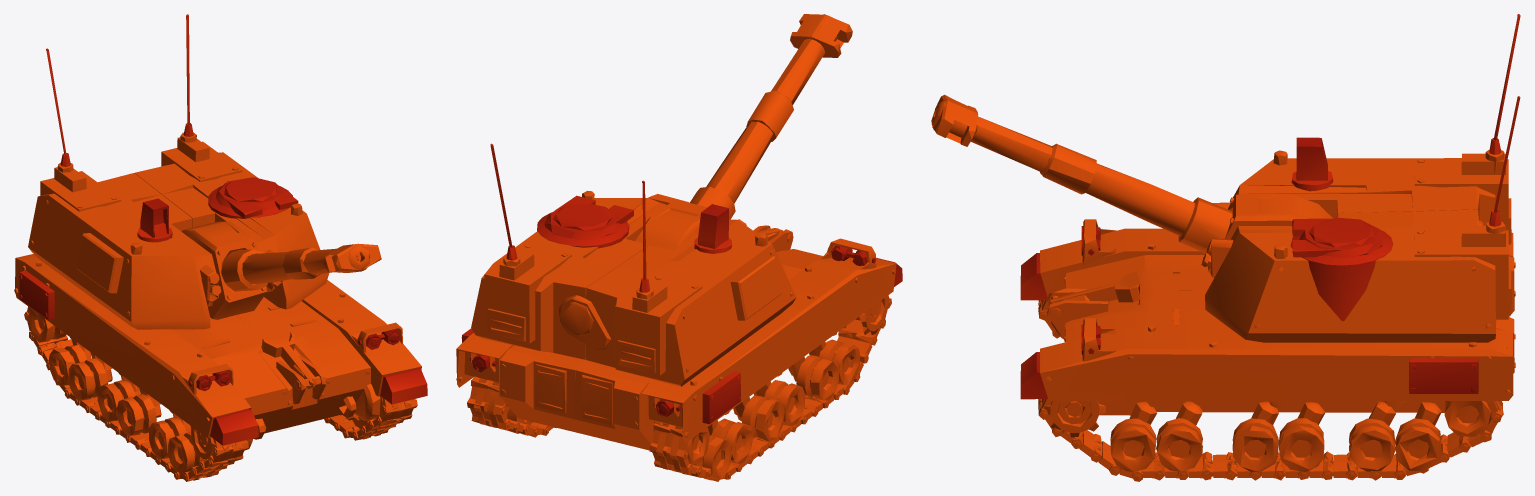
The model's file is wb-howitzer.fbx.
The picture shows the model from 3 angles, left to right: view 1: azimuth 30°, elevation 25°; view 2: azimuth 150°, elevation 25°; view 3: azimuth 270°, elevation 25°; orthographic projection. The views are drawn at different scales.
Visible parts, largest first — view 1: arillery; view 2: arillery; view 3: arillery.
Part boxes in pixels (x1=…): arillery: x1=14, y1=14, x2=427, y2=481; arillery: x1=456, y1=14, x2=902, y2=481; arillery: x1=931, y1=14, x2=1520, y2=481.
Bounding box in the file's own units: 0.6048 × 0.7675 × 1.11.
